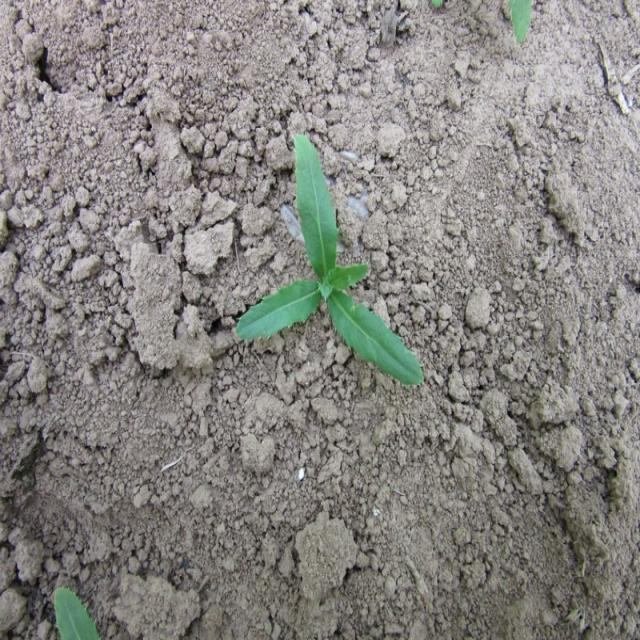field_thistle: (217, 108, 427, 394)
